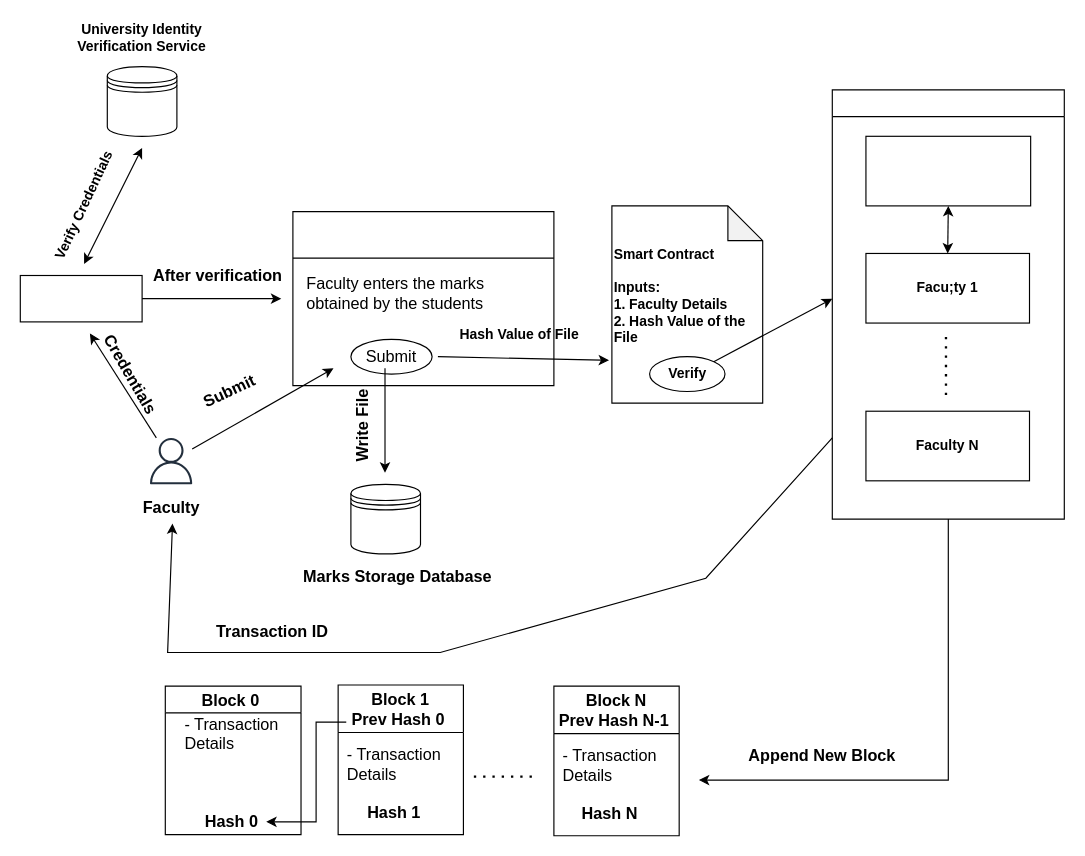
Image size: 1085x856. Some labels were removed from this diagram. The shapes that lost their labels are listed below. From the top down, each one's box as (x1, y1, x2, y2) in pixels, then its label:
(865, 135, 1031, 206): Head of the Department
(19, 274, 142, 322): Faculty Login
(292, 211, 554, 386): Marks Submission Web Application
(831, 89, 1064, 519): POA NETWORK
